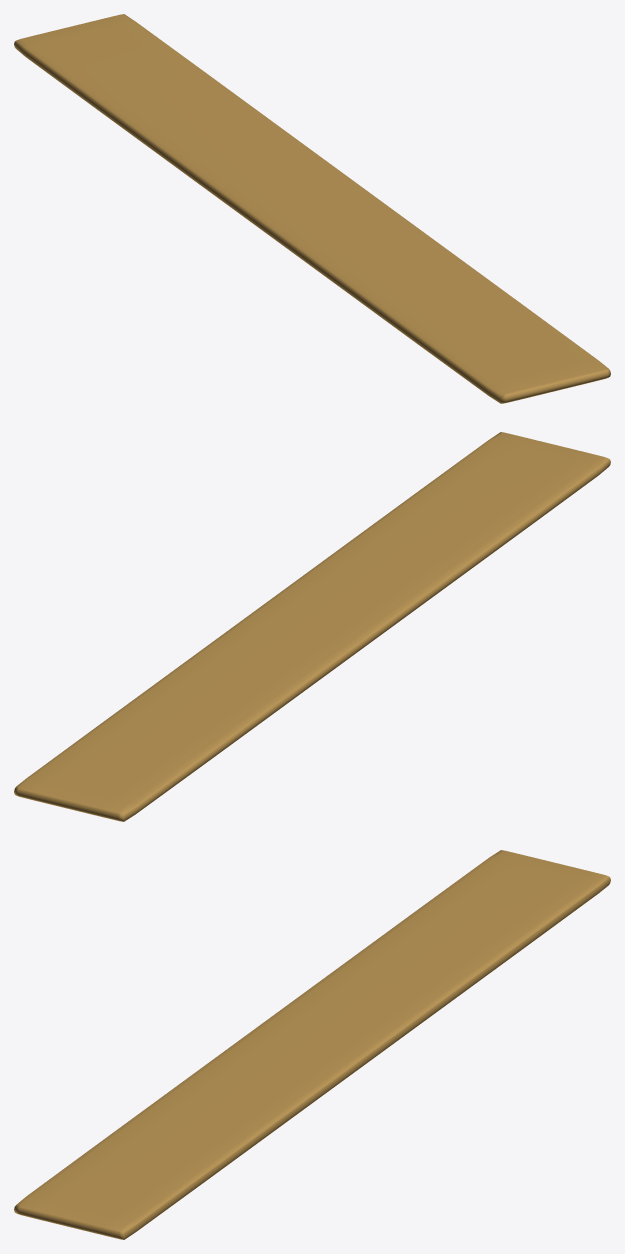
The model's file is Plank.fbx.
The picture shows the model from 3 angles, top to bottom: view 1: azimuth 30°, elevation 25°; view 2: azimuth 150°, elevation 25°; view 3: azimuth 330°, elevation 25°; orthographic projection.
Visible parts, largest first — view 1: Cube; view 2: Cube; view 3: Cube.
Boxes of the visible parts, x1,y1,x2,y2 form: Cube: (14,14,610,403); Cube: (14,432,610,821); Cube: (14,850,610,1239).
Bounding box in the file's own units: 20.13 × 2 × 151.
